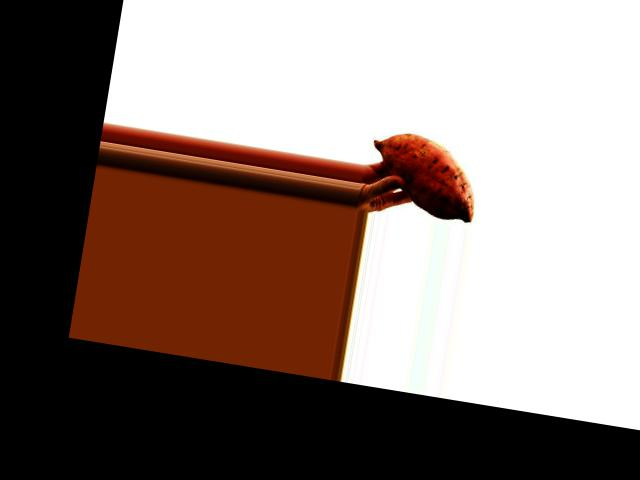sweet_potato: (367, 122, 488, 227)
